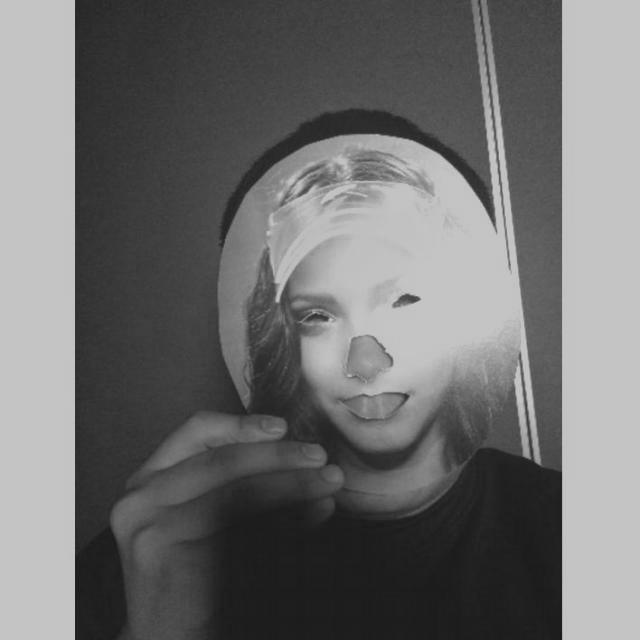fake: (210, 135, 524, 514)
